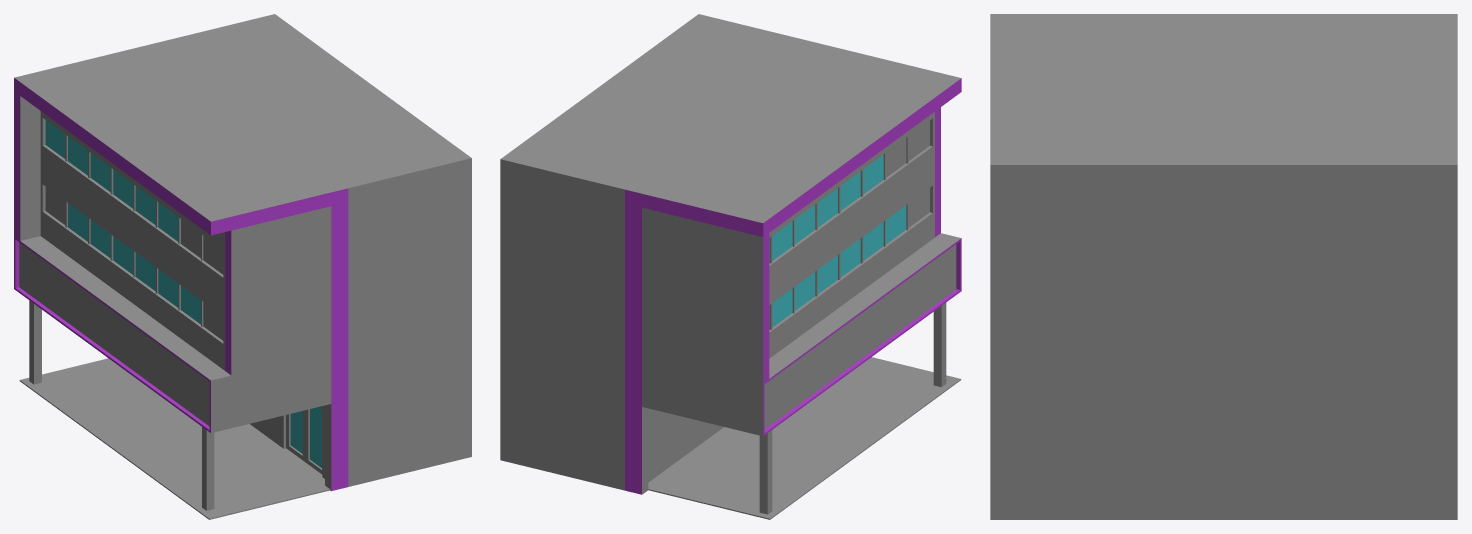
File: buildings_S_01_VAR3.fbx
The picture shows the model from 3 angles, left to right: view 1: azimuth 30°, elevation 25°; view 2: azimuth 150°, elevation 25°; view 3: azimuth 270°, elevation 25°; orthographic projection. The views are drawn at different scales.
Parts seen in each view (by area): view 1: buildings_S_01_VAR3; view 2: buildings_S_01_VAR3; view 3: buildings_S_01_VAR3.
Boxes of the visible parts, x1,y1,x2,y2 form: buildings_S_01_VAR3: [14, 14, 471, 519]; buildings_S_01_VAR3: [500, 14, 961, 519]; buildings_S_01_VAR3: [990, 14, 1457, 519].
Bounding box in the file's own units: 9.53 × 10.41 × 12.43.
